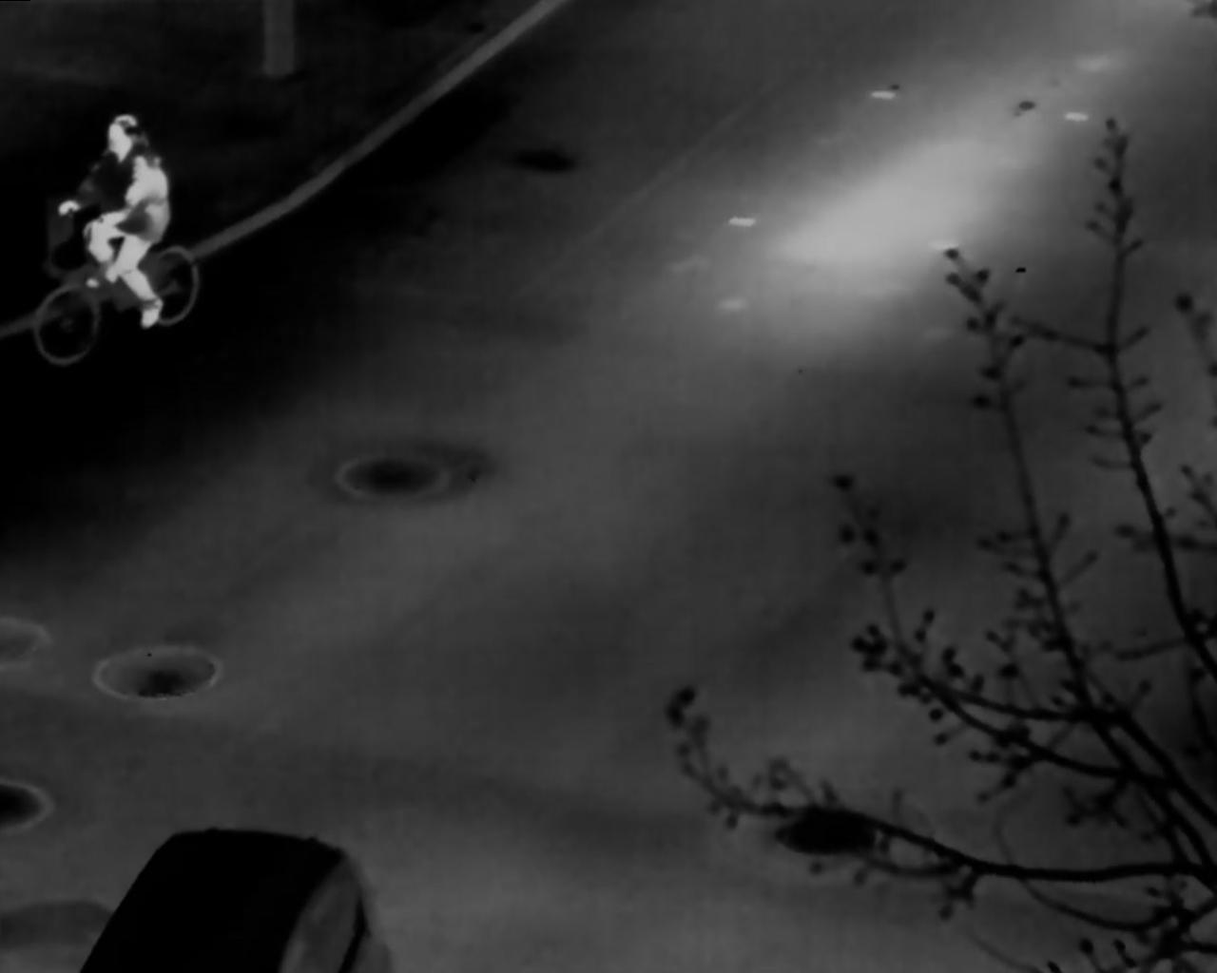person: (56, 112, 169, 329)
